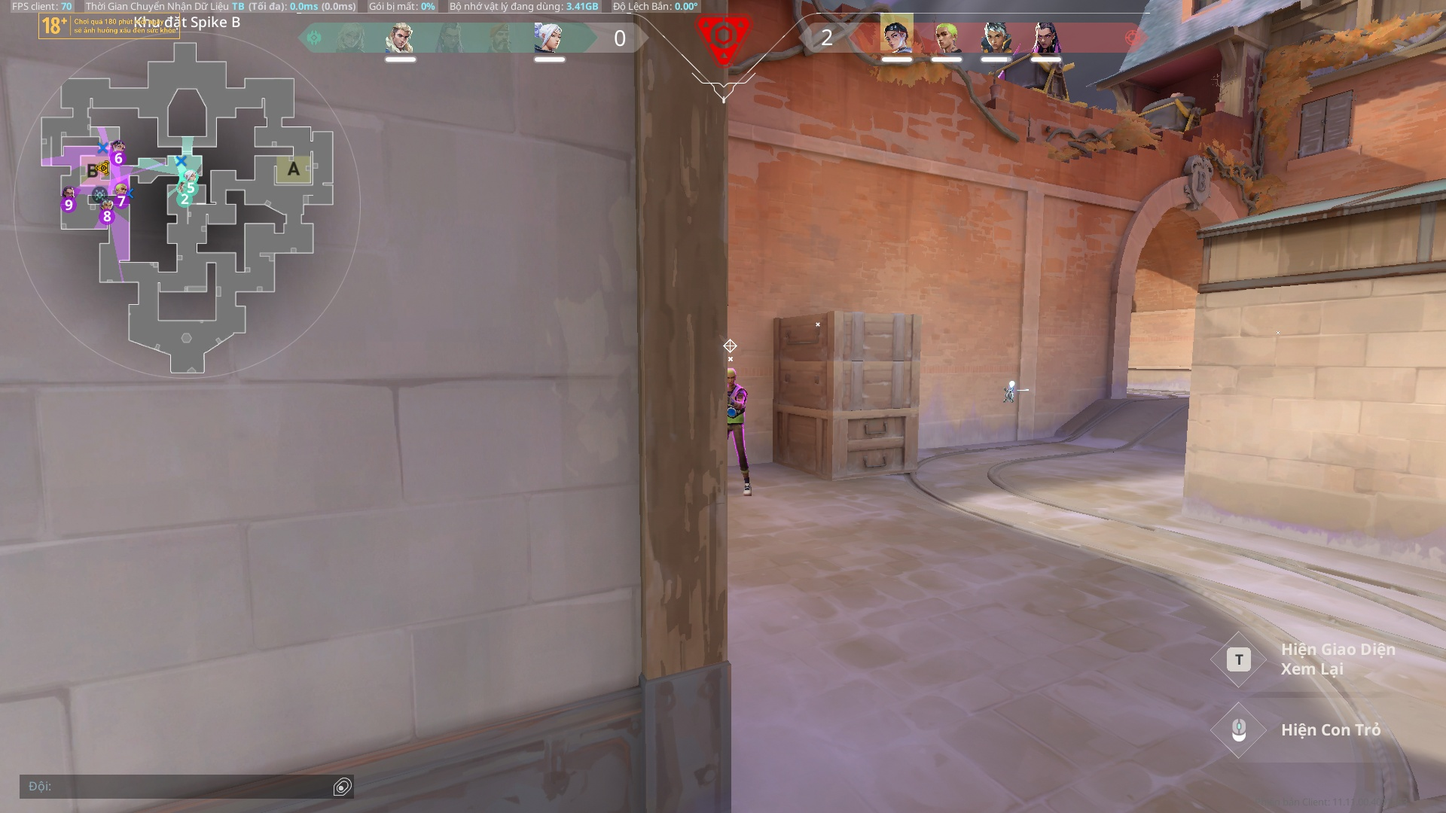body: (727, 384, 749, 423)
head: (727, 367, 740, 385)
